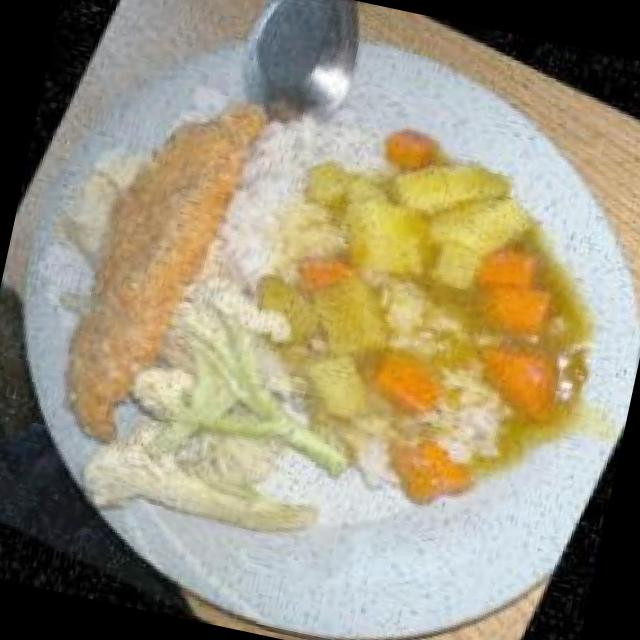curry: (196, 82, 640, 577)
fried_chicken: (12, 47, 295, 476)
